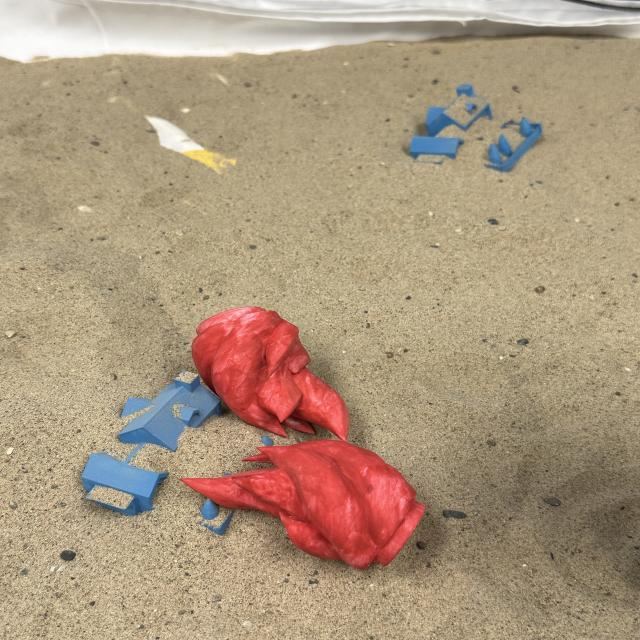fire: (179, 437, 427, 570), (188, 305, 348, 441)
house: (84, 373, 270, 535), (408, 86, 545, 168)
